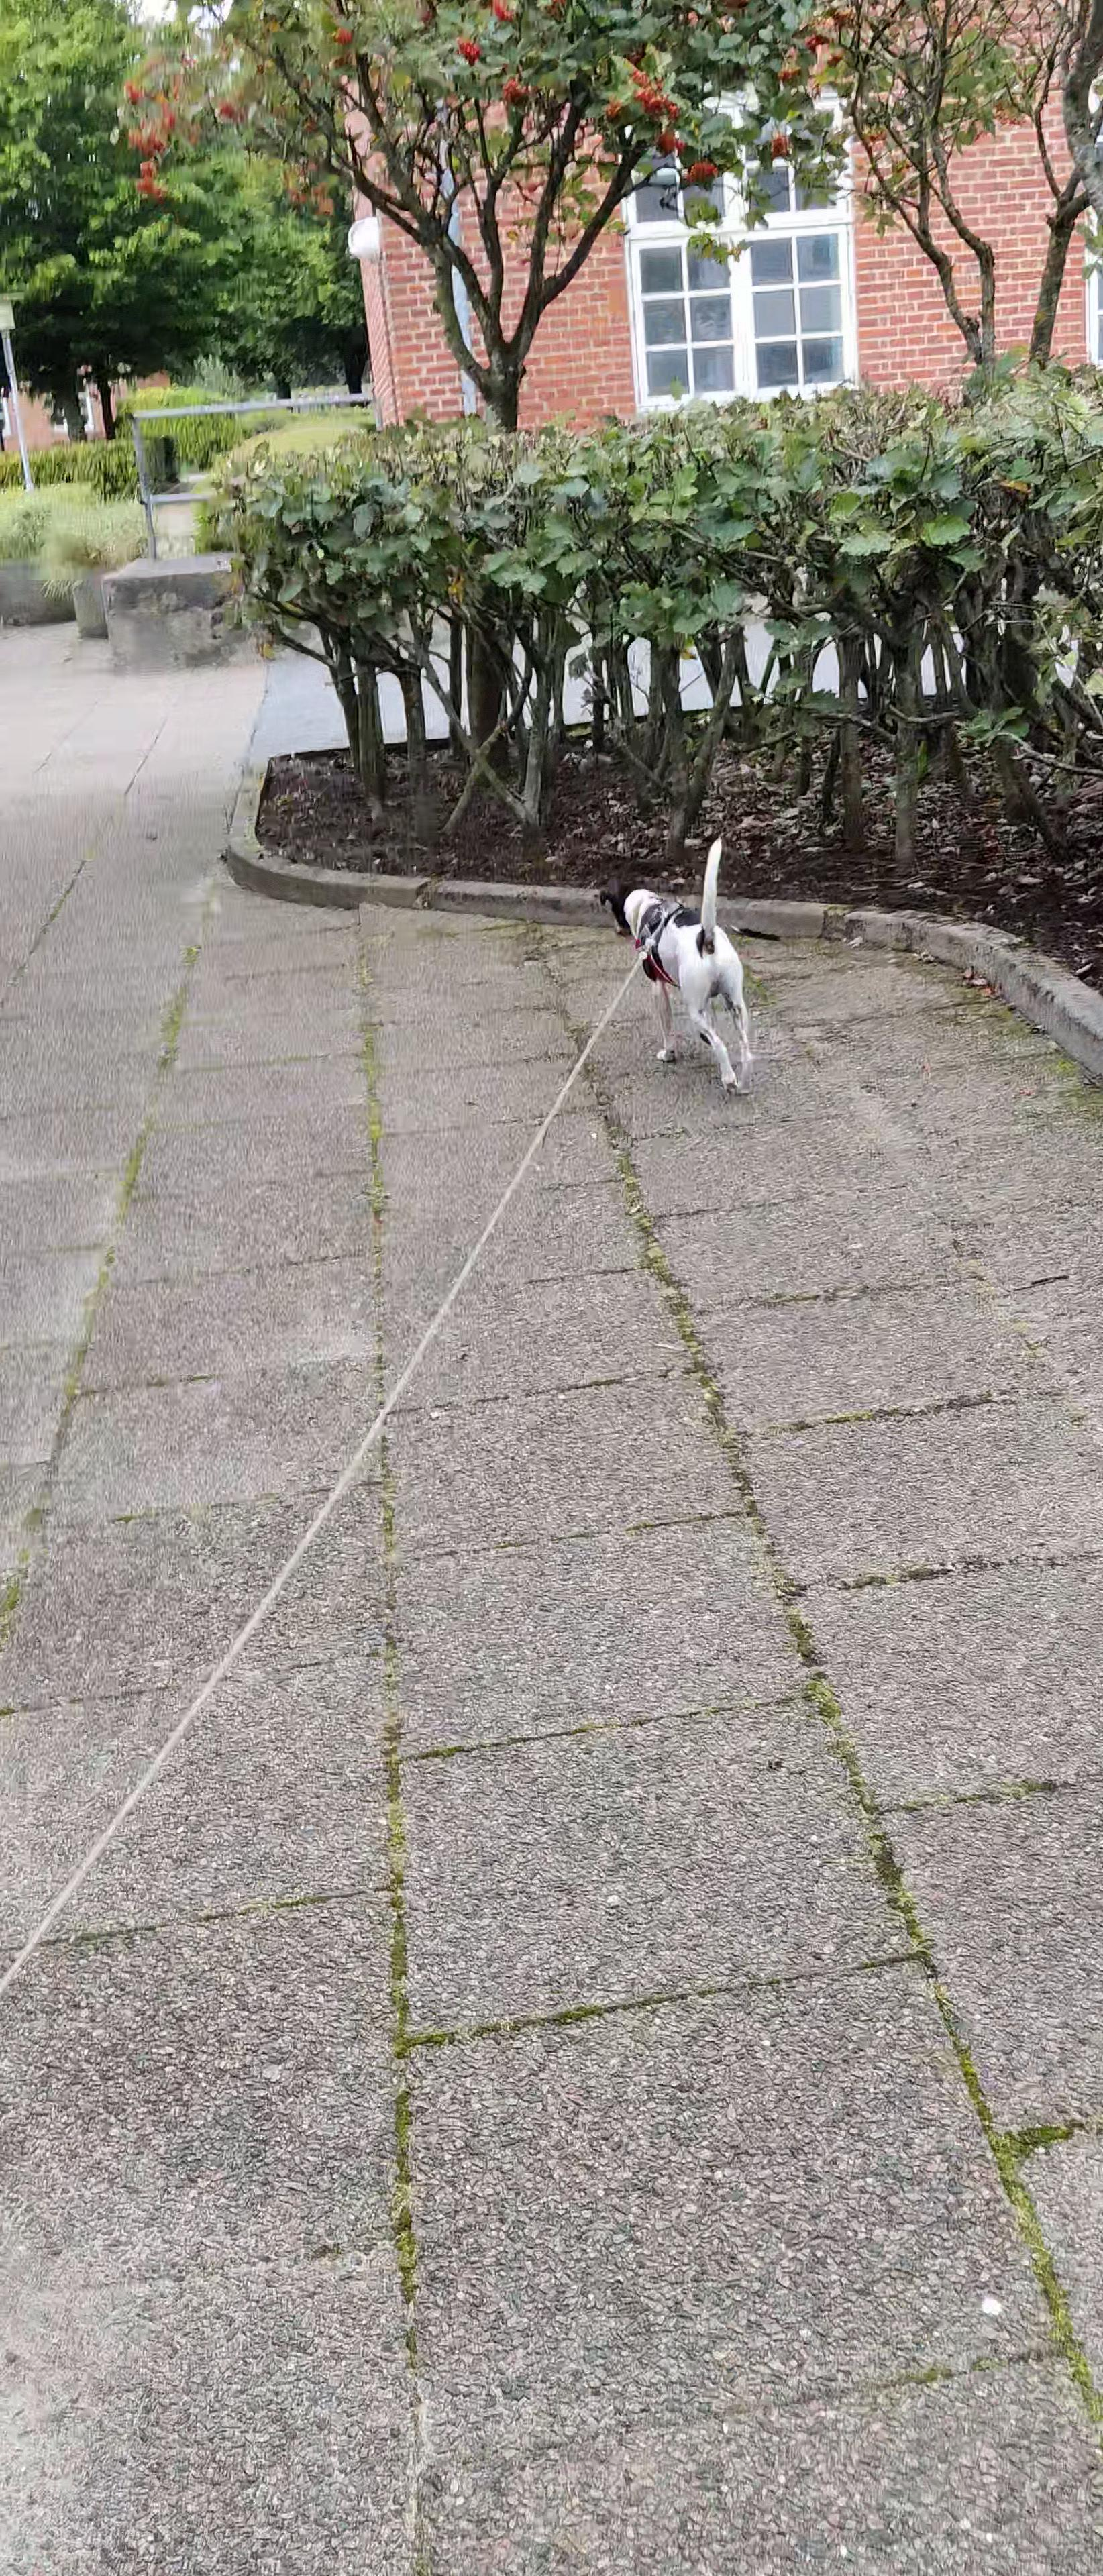Dog: (579, 820, 763, 1102)
